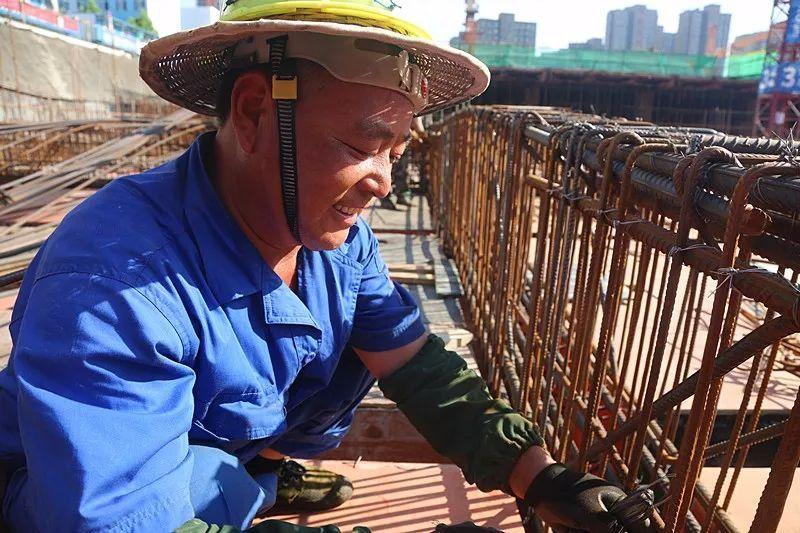helmet: (133, 1, 464, 116)
